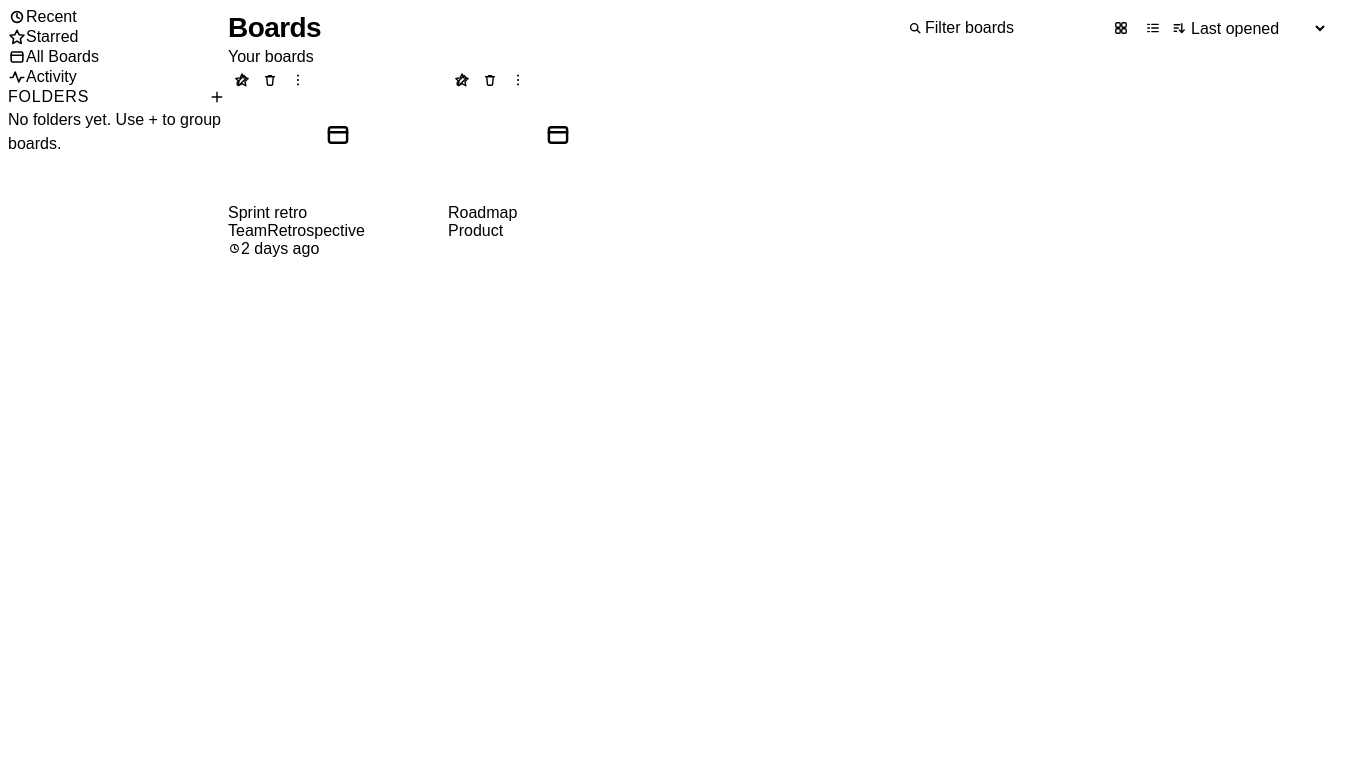
Test case: @firo/ui BoardHome › says so when a filter matches nothing
The width and height of the screenshot is (1366, 759).
Type "zzz" into the search field labelled "Filter boards" at (1013, 28), box [923, 18, 1103, 38]
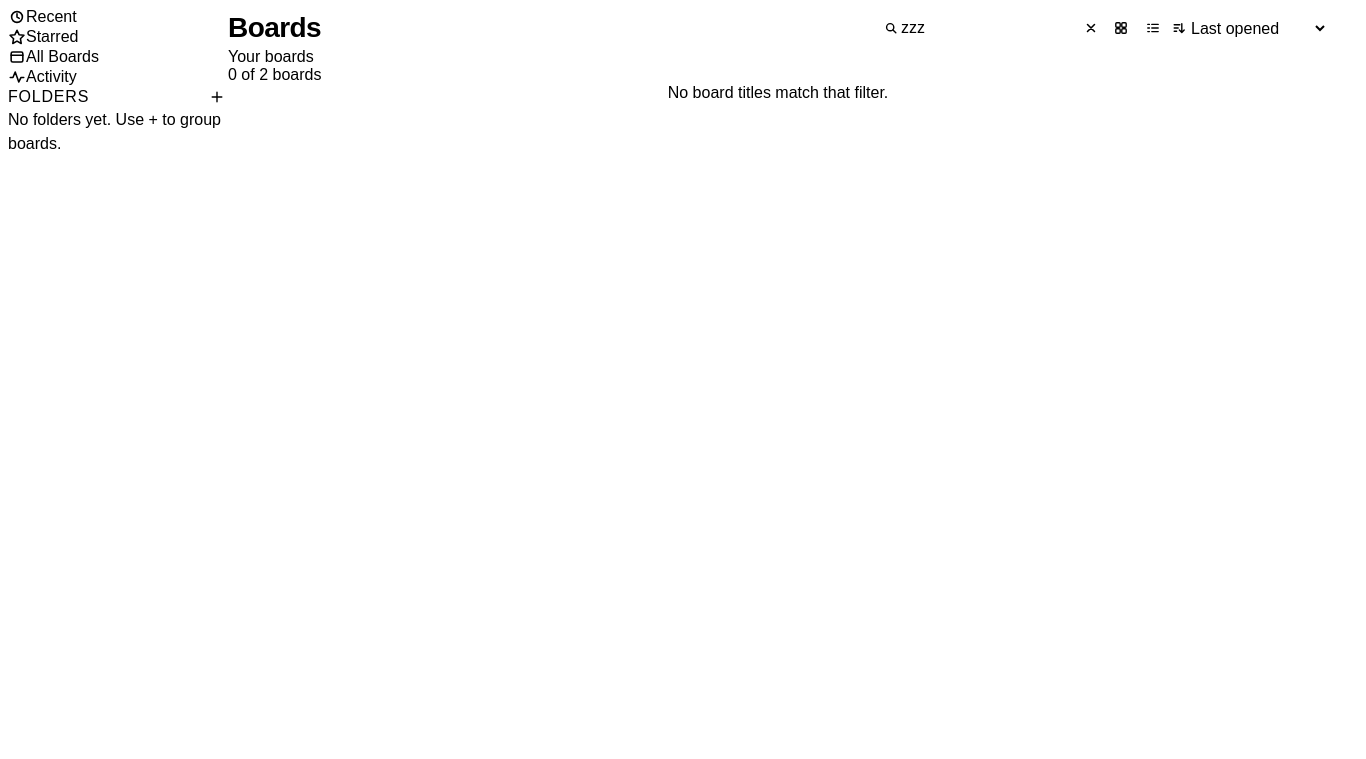
Check: the text "No board titles match that filter." is shown, box [668, 84, 888, 101]
